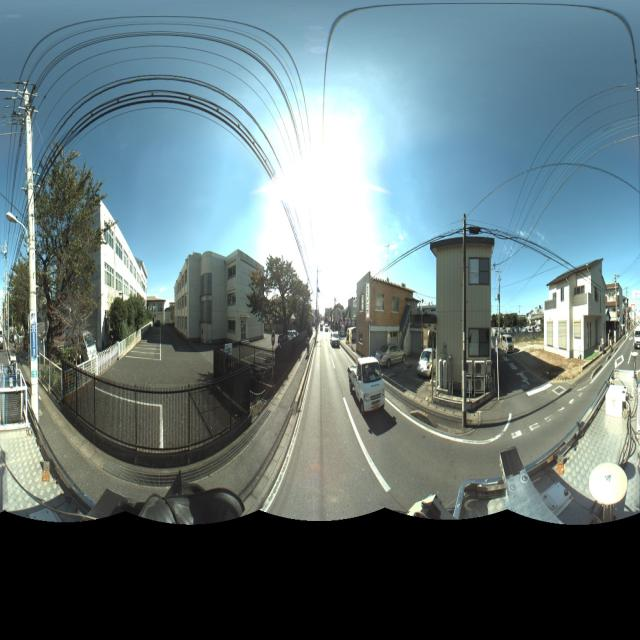b_1: (171, 237, 275, 356), (433, 224, 492, 392), (542, 258, 606, 359), (354, 266, 418, 363), (604, 272, 622, 344)
b_2: (55, 197, 149, 365)
